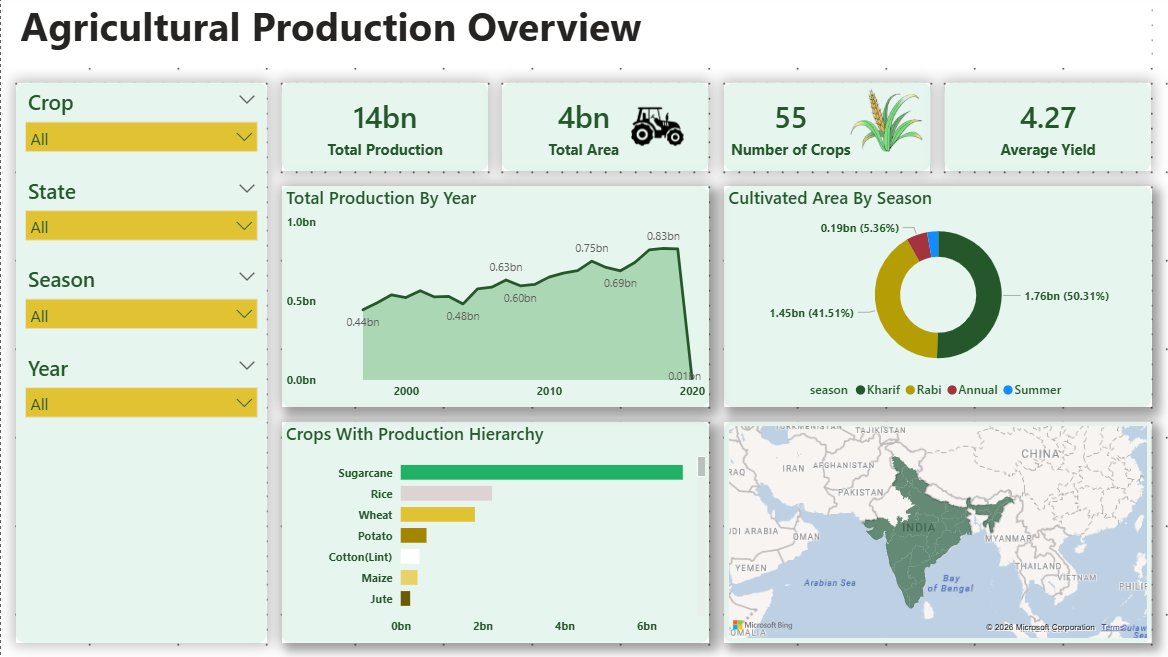

Layout of this report page (visuals, bound fields, positions):
{"tool":"powerbi","page":{"name":"Crop Yield Analysis","canvas":[1280,720],"ordinal":0},"visuals":[{"type":"shape","box":[304,96,224,96],"z":0},{"type":"shape","box":[544,96,224,96],"z":1000},{"type":"shape","box":[784,96,224,96],"z":2000},{"type":"shape","box":[1024,96,224,96],"z":3000},{"type":"shape","box":[304,208,464,240],"z":4000},{"type":"shape","box":[784,208,464,240],"z":5000},{"type":"shape","box":[304,464,464,240],"z":6000},{"type":"shape","box":[784,464,464,240],"z":7000},{"type":"shape","box":[16,96,272,608],"z":8000},{"type":"textbox","box":[16,0,1232,80],"z":9000},{"type":"card","fields":{"Values":["crop_yield_cleaned.Total Production"]},"box":[304,96,224,96],"z":10000},{"type":"lineChart","title":"Total Production By Year","fields":{"Category":["crop_yield_cleaned.crop_year"],"Y":["crop_yield_cleaned.Total Production"]},"box":[304,208,464,240],"z":11000},{"type":"donutChart","title":"Cultivated Area By Season","fields":{"Y":["Sum(crop_yield_cleaned.area)"],"Category":["crop_yield_cleaned.season"]},"box":[784,208,464,240],"z":12000},{"type":"clusteredBarChart","title":"Crops With Production Hierarchy","fields":{"Category":["crop_yield_cleaned.crop"],"Y":["Sum(crop_yield_cleaned.production)"]},"box":[304,464,464,240],"z":13000},{"type":"card","fields":{"Values":["crop_yield_cleaned.Total Area"]},"box":[560,96,144,96],"z":14000},{"type":"card","fields":{"Values":["crop_yield_cleaned.Number of Crops"]},"box":[784,96,144,96],"z":15000},{"type":"card","fields":{"Values":["crop_yield_cleaned.Average Yield"]},"box":[1024,96,224,96],"z":16000},{"type":"filledMap","fields":{"Category":["crop_yield_cleaned.state"]},"box":[784,464,464,240],"z":17000},{"type":"slicer","fields":{"Values":["crop_yield_cleaned.crop"]},"box":[16,96,272,96],"z":18000},{"type":"slicer","fields":{"Values":["crop_yield_cleaned.state"]},"box":[16,192,272,96],"z":19000},{"type":"slicer","fields":{"Values":["crop_yield_cleaned.season"]},"box":[16,288,272,96],"z":20000},{"type":"slicer","fields":{"Values":["crop_yield_cleaned.crop_year"]},"box":[16,384,272,96],"z":21000},{"type":"image","box":[672,80,80,128],"z":21001},{"type":"image","box":[896,48,128,176],"z":21002}]}

Visuals, with their boxes in screenshot pixels (x1, y1, x2, y2), scaled from the page's 1280x720 canvas onto the 1168x657 screenshot:
shape: bbox(277, 88, 482, 175)
shape: bbox(496, 88, 701, 175)
shape: bbox(715, 88, 920, 175)
shape: bbox(934, 88, 1139, 175)
shape: bbox(277, 190, 701, 409)
shape: bbox(715, 190, 1139, 409)
shape: bbox(277, 423, 701, 642)
shape: bbox(715, 423, 1139, 642)
shape: bbox(15, 88, 263, 642)
textbox: bbox(15, 0, 1139, 73)
card - crop_yield_cleaned.Total Production: bbox(277, 88, 482, 175)
"Total Production By Year" lineChart: bbox(277, 190, 701, 409)
"Cultivated Area By Season" donutChart: bbox(715, 190, 1139, 409)
"Crops With Production Hierarchy" clusteredBarChart: bbox(277, 423, 701, 642)
card - crop_yield_cleaned.Total Area: bbox(511, 88, 642, 175)
card - crop_yield_cleaned.Number of Crops: bbox(715, 88, 847, 175)
card - crop_yield_cleaned.Average Yield: bbox(934, 88, 1139, 175)
filledMap - crop_yield_cleaned.state: bbox(715, 423, 1139, 642)
slicer - crop_yield_cleaned.crop: bbox(15, 88, 263, 175)
slicer - crop_yield_cleaned.state: bbox(15, 175, 263, 263)
slicer - crop_yield_cleaned.season: bbox(15, 263, 263, 350)
slicer - crop_yield_cleaned.crop_year: bbox(15, 350, 263, 438)
image: bbox(613, 73, 686, 190)
image: bbox(818, 44, 934, 204)
